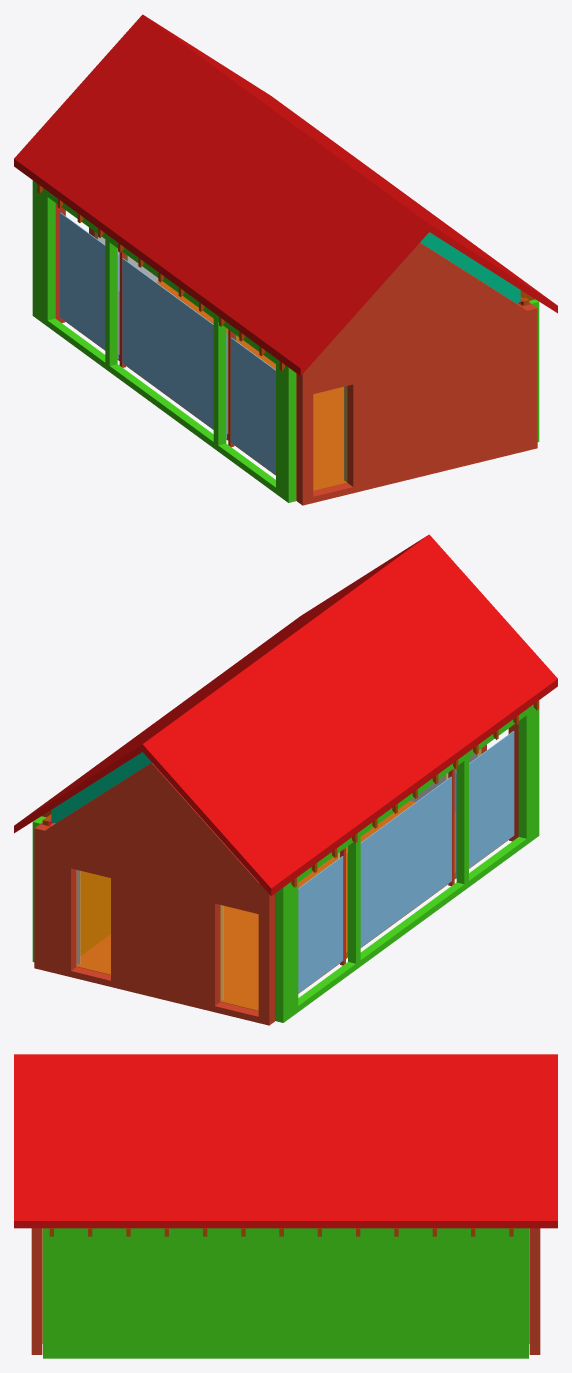
The model's file is obyvak.glb.
3 renders of one model, top to bottom at view 1: azimuth 30°, elevation 25°; view 2: azimuth 150°, elevation 25°; view 3: azimuth 270°, elevation 25°, orthographic. The views are drawn at different scales.
Visible parts, largest first — view 1: roofing, masonry (×2), glazing (×3), eps, floor, plenum_wool; view 2: roofing, masonry (×2), glazing (×3), eps, floor, furniture, plenum_wool; view 3: roofing, eps, masonry (×2).
Boxes of the visible parts, left/top/right/bottom form: roofing: left=14, top=14, right=557, bottom=376; masonry (×2): left=55, top=203, right=537, bottom=505; glazing (×3): left=60, top=212, right=275, bottom=474; eps: left=32, top=180, right=296, bottom=502; floor: left=65, top=281, right=346, bottom=490; plenum_wool: left=420, top=232, right=520, bottom=303; roofing: left=14, top=534, right=557, bottom=896; masonry (×2): left=34, top=724, right=518, bottom=1025; glazing (×3): left=298, top=731, right=514, bottom=993; eps: left=275, top=704, right=539, bottom=1022; floor: left=77, top=801, right=508, bottom=1010; furniture: left=80, top=871, right=110, bottom=955; plenum_wool: left=51, top=752, right=151, bottom=823; roofing: left=14, top=1054, right=557, bottom=1228; eps: left=43, top=1228, right=528, bottom=1358; masonry (×2): left=31, top=1228, right=540, bottom=1354.
Bounding box in the file's own units: 6.44 × 6.21 × 12.43.
